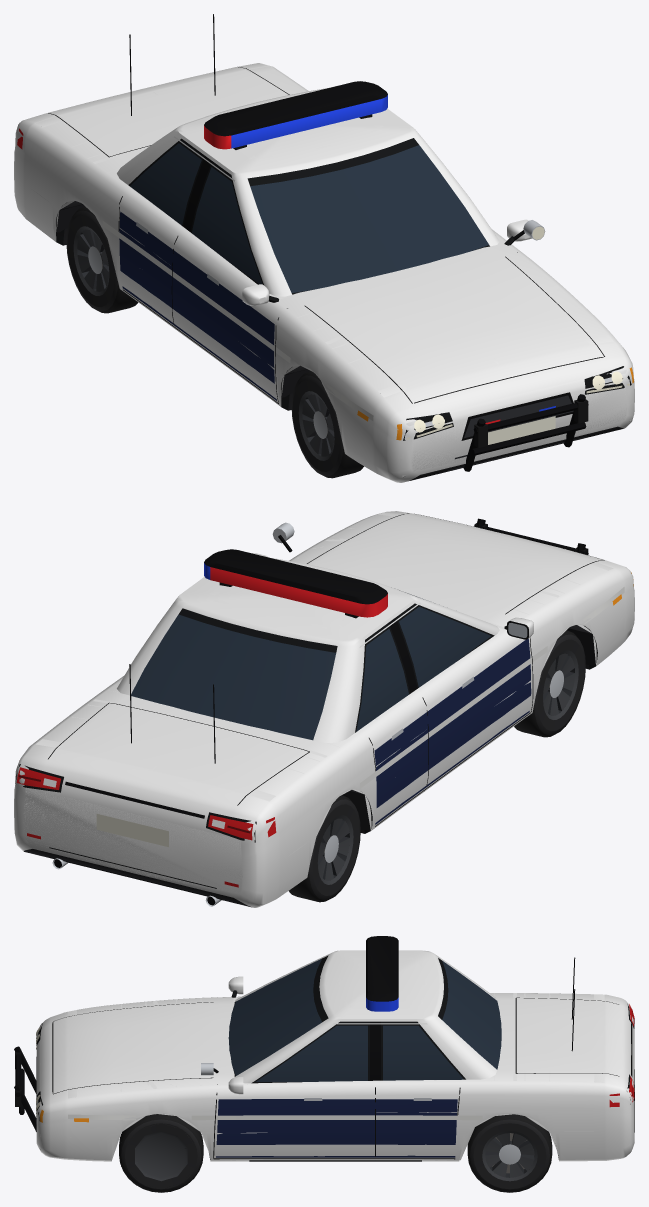
Rendered from police.glb.
The picture shows the model from 3 angles, top to bottom: view 1: azimuth 30°, elevation 25°; view 2: azimuth 150°, elevation 25°; view 3: azimuth 270°, elevation 25°; orthographic projection. The views are drawn at different scales.
Visible parts, largest first — view 1: Body, BodyLod, Wheel_FR, Wheel_RR; view 2: Body, BodyLod, Wheel_RR, Wheel_FR; view 3: Body, Wheel_RL, WheelLod_FL, BodyLod, Wheel_FL.
Part boxes in pixels (left/top/right/bottom): Body: left=14, top=14, right=634, bottom=482; BodyLod: left=33, top=66, right=633, bottom=477; Wheel_FR: left=291, top=371, right=363, bottom=478; Wheel_RR: left=66, top=206, right=138, bottom=313; Body: left=14, top=511, right=634, bottom=907; BodyLod: left=23, top=512, right=613, bottom=893; Wheel_RR: left=289, top=795, right=360, bottom=902; Wheel_FR: left=514, top=630, right=585, bottom=737; Body: left=14, top=936, right=634, bottom=1161; Wheel_RL: left=467, top=1114, right=552, bottom=1192; WheelLod_FL: left=121, top=1122, right=201, bottom=1189; BodyLod: left=36, top=936, right=634, bottom=1160; Wheel_FL: left=119, top=1114, right=203, bottom=1192.
Bounding box in the file's own units: 2.06 × 1.62 × 4.99.
Materials: 8 (6 with a texture image).
